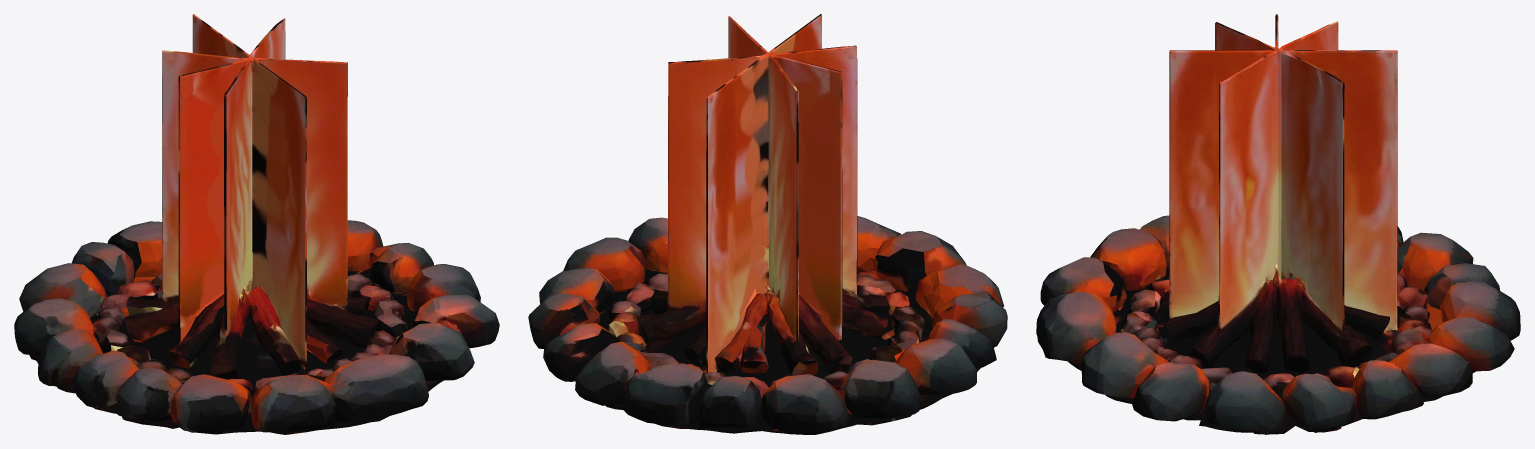
The model's file is volcano_entrance.glb.
3 views of the same model, side by side, from view 1: azimuth 30°, elevation 25°; view 2: azimuth 150°, elevation 25°; view 3: azimuth 270°, elevation 25° (orthographic).
Size of the model in its own units: 1.96 by 1.3 by 1.97.
Materials: 1 (1 with a texture image).
